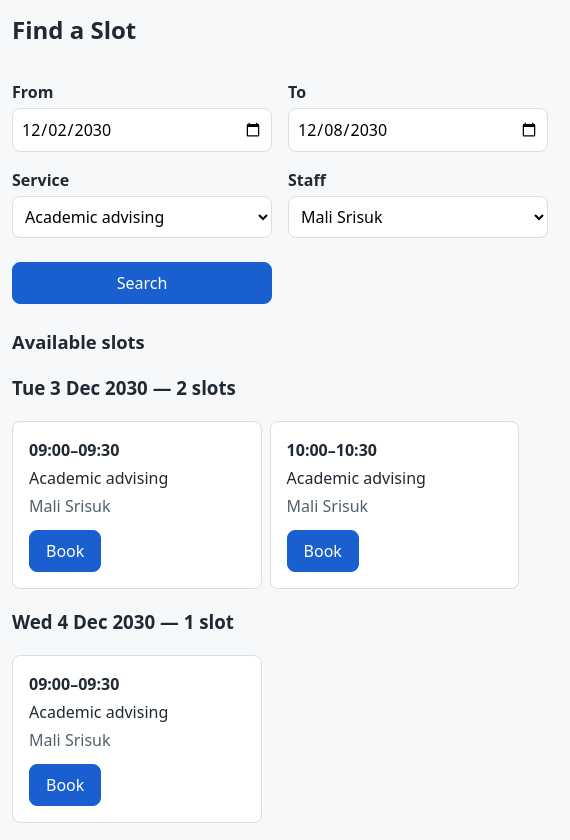
SearchPage (F-12) › UI-11: the form is filled from the URL, results are grouped by day, a 422 shows the field error
Expected: the date field labelled "From" holds "2030-12-02", x1=12 y1=108 x2=272 y2=152
Expected: the dropdown labelled "Staff" shows "Mali Srisuk", x1=288 y1=196 x2=548 y2=238
Type "2030-12-01" into the date field labelled "To" at (418,130), box x1=288 y1=108 x2=548 y2=152
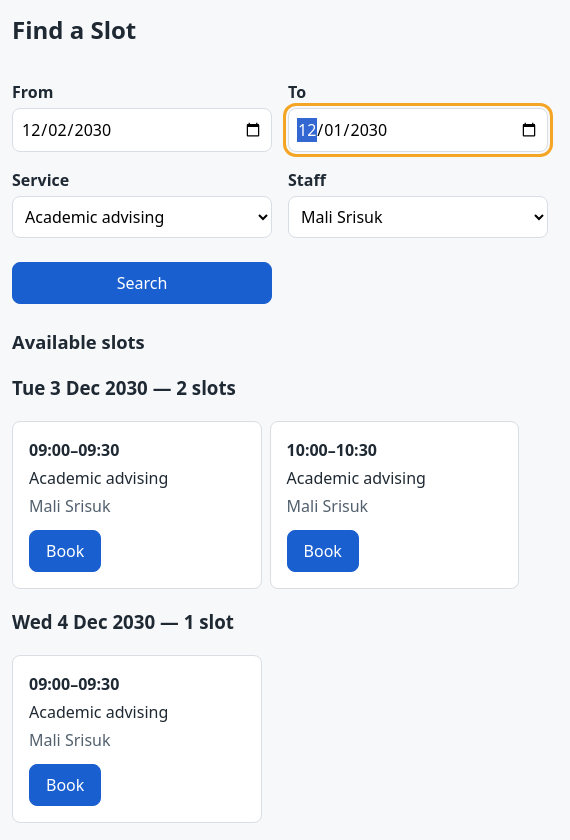
Click the button "Search" at (142,283), box x1=12 y1=262 x2=272 y2=304
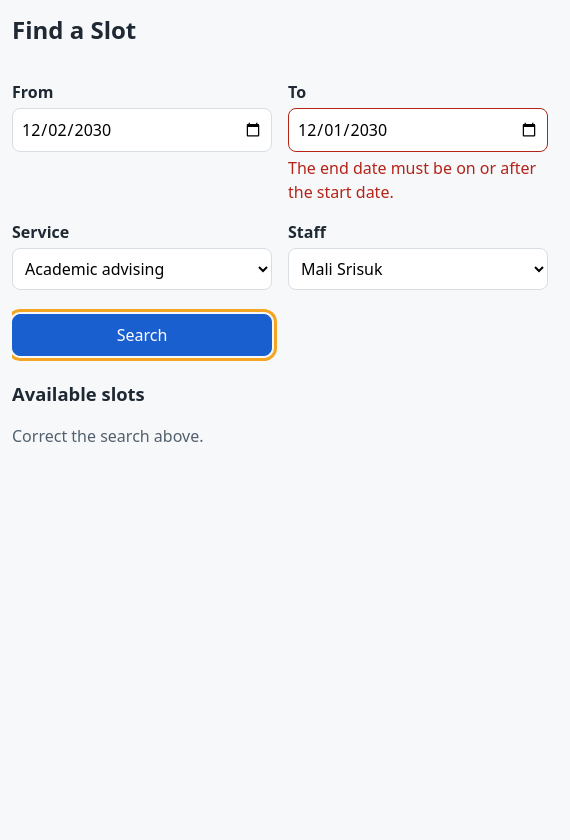
Expected: the text "The end date must be on or after the start date." is shown, x1=288 y1=156 x2=548 y2=204
